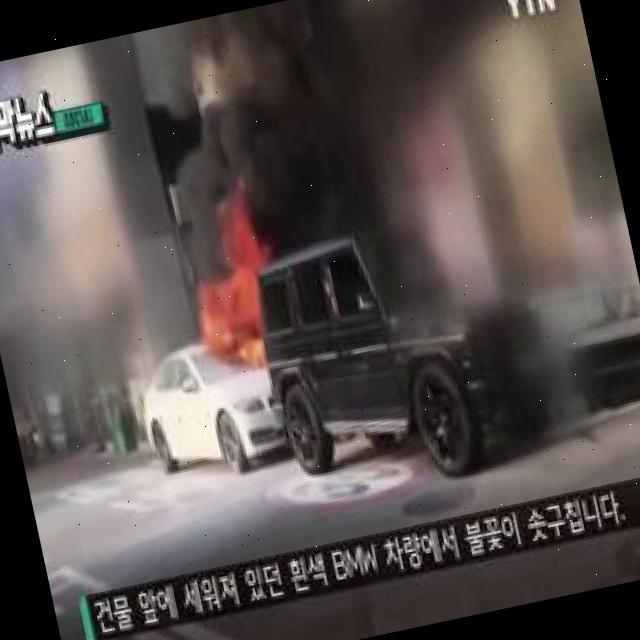fire: (188, 238, 284, 373)
